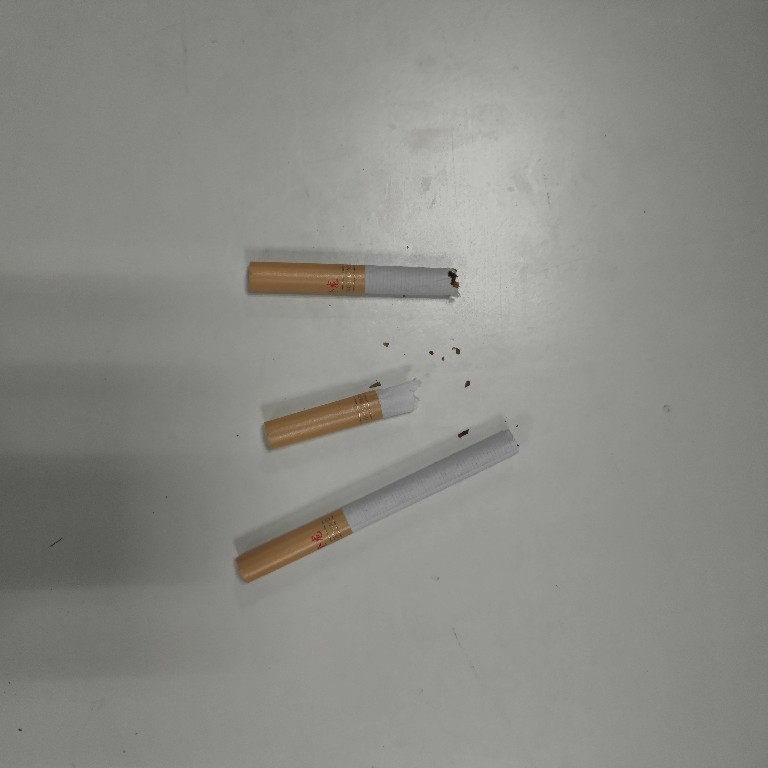cigarette: (233, 427, 521, 584), (257, 379, 423, 453), (244, 259, 464, 305)
